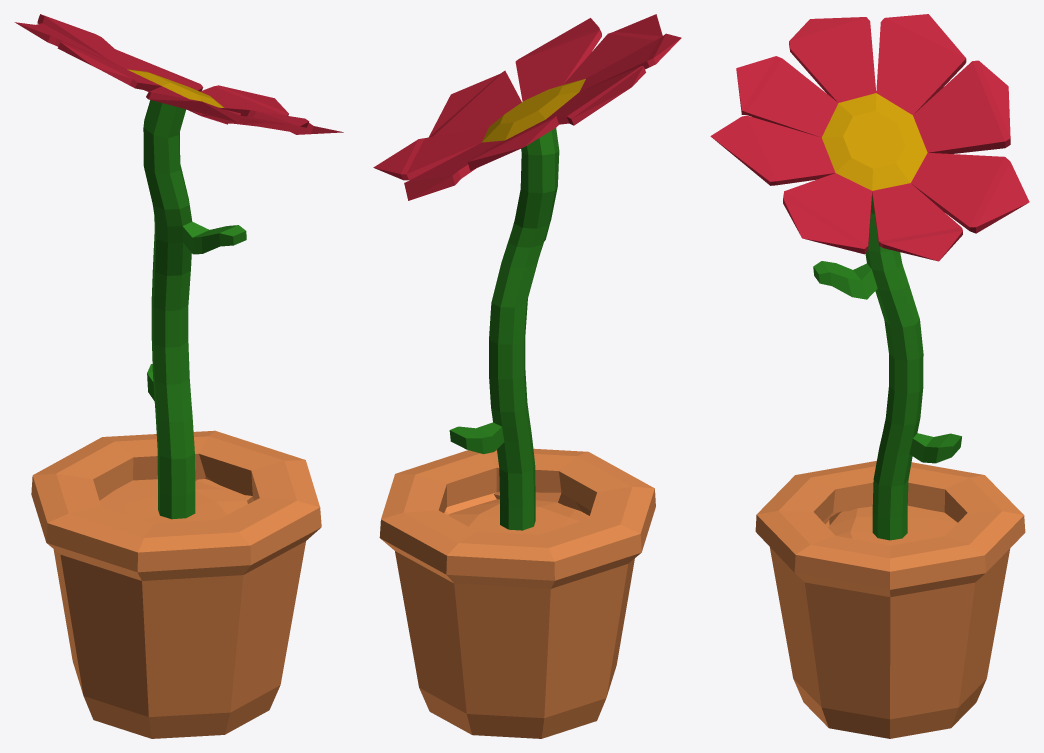
File: flower-pot-2nd-type.fbx
3 views of the same model, side by side, from view 1: azimuth 30°, elevation 25°; view 2: azimuth 150°, elevation 25°; view 3: azimuth 270°, elevation 25° (orthographic). The views are drawn at different scales.
Visible parts, largest first — view 1: Circle.002, Circle.001, Circle; view 2: Circle.002, Circle, Circle.001; view 3: Circle.002, Circle, Circle.001.
Boxes of the visible parts, x1,y1,x2,y2 form: Circle.002: (31,430,321,738); Circle.001: (143,100,246,519); Circle: (14,14,343,134); Circle.002: (379,448,655,738); Circle: (373,14,681,200); Circle.001: (449,128,559,530); Circle.002: (755,460,1025,738); Circle: (710,14,1029,261); Circle.001: (813,197,961,540).
Size of the model in its own units: 162 by 398 by 183.
